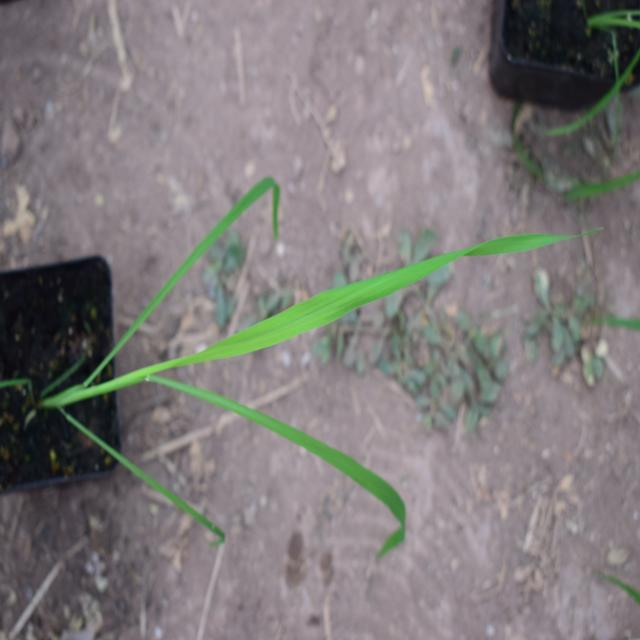barnyard_grass: (76, 176, 603, 531)
